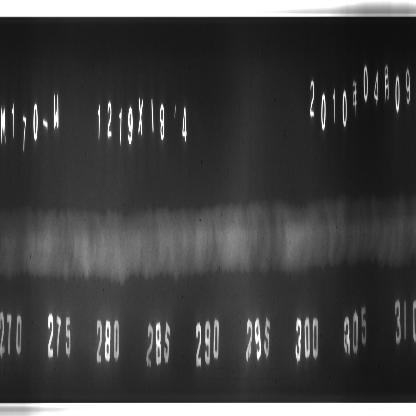Q: (234, 0, 416, 16)
